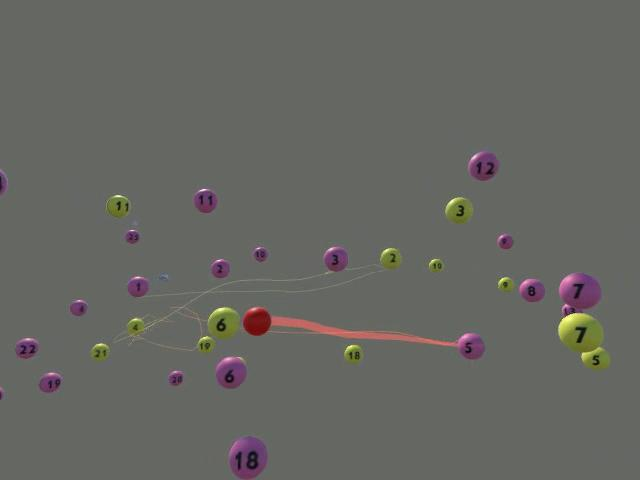ball_01_pink: (127, 275, 149, 296)
ball_02_pink: (211, 258, 231, 278)
ball_02_yellow: (379, 247, 401, 269)
ball_03_pink: (323, 246, 348, 271)
ball_03_yellow: (444, 196, 473, 224)
ball_04_pink: (69, 299, 87, 316)
ball_04_yellow: (126, 317, 144, 335)
ball_05_pink: (457, 332, 484, 359)
ball_05_yellow: (581, 346, 611, 369)
ball_06_pink: (215, 357, 246, 388)
ball_06_yellow: (207, 306, 240, 340)
ball_07_pink: (558, 272, 601, 309)
ball_07_yellow: (557, 312, 603, 352)
ball_08_pink: (518, 278, 544, 301)
ball_09_pink: (497, 233, 513, 249)
ball_09_yellow: (497, 276, 514, 292)
ball_10_pink: (253, 246, 267, 261)
ball_10_yellow: (428, 258, 443, 272)
ball_11_pink: (193, 188, 217, 213)
ball_11_yellow: (105, 194, 130, 217)
ball_12_pink: (467, 151, 498, 181)
ball_18_pink: (228, 435, 267, 478)
ball_18_yellow: (343, 344, 362, 363)
ball_19_pink: (38, 371, 61, 391)
ball_19_yellow: (196, 336, 214, 353)
ball_20_pink: (167, 369, 183, 384)
ball_21_yellow: (89, 342, 109, 361)
ball_22_pink: (15, 337, 39, 358)
ball_23_pink: (124, 229, 139, 243)
ball_unknown: (561, 303, 580, 316), (0, 168, 7, 195), (237, 355, 247, 362), (0, 386, 4, 399)
user_cursor: (242, 306, 271, 335)
